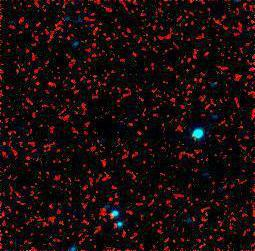star: (15, 139, 45, 169)
